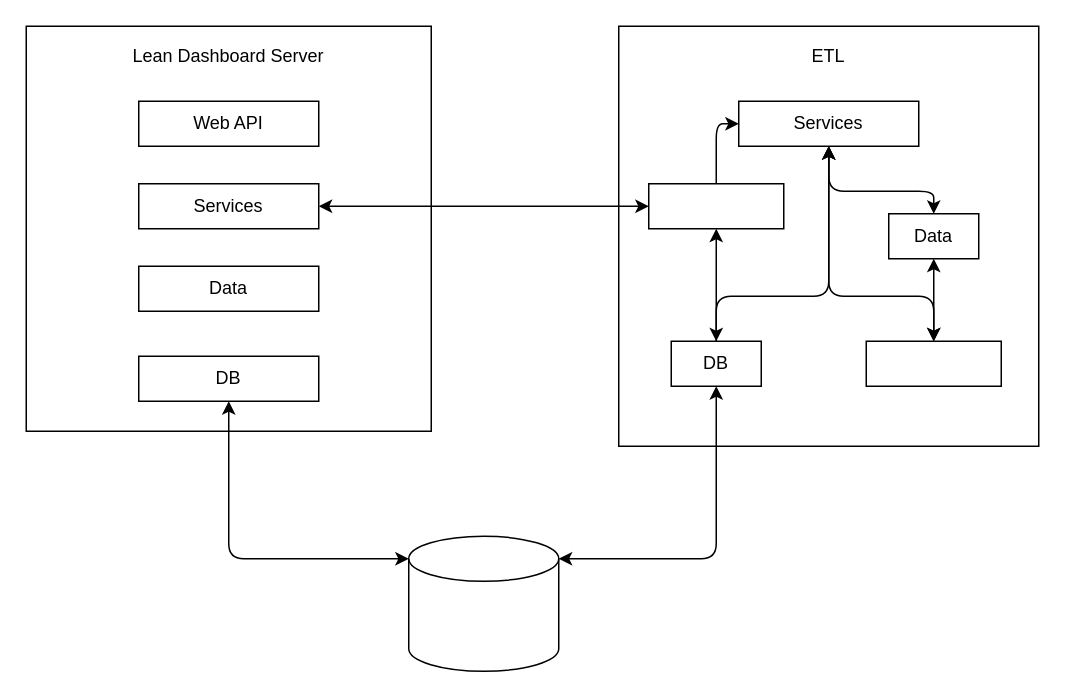
The diagram is 1065 pixels wide and 698 high, and some of its shapes have lost their labels. The box of each missing label's shape, as (x1, y1, x2, y2) in pixels:
Database (Elastic Search): (407, 535, 559, 671)
Scheduler: (647, 182, 784, 229)
Transformer: (865, 340, 1001, 386)
